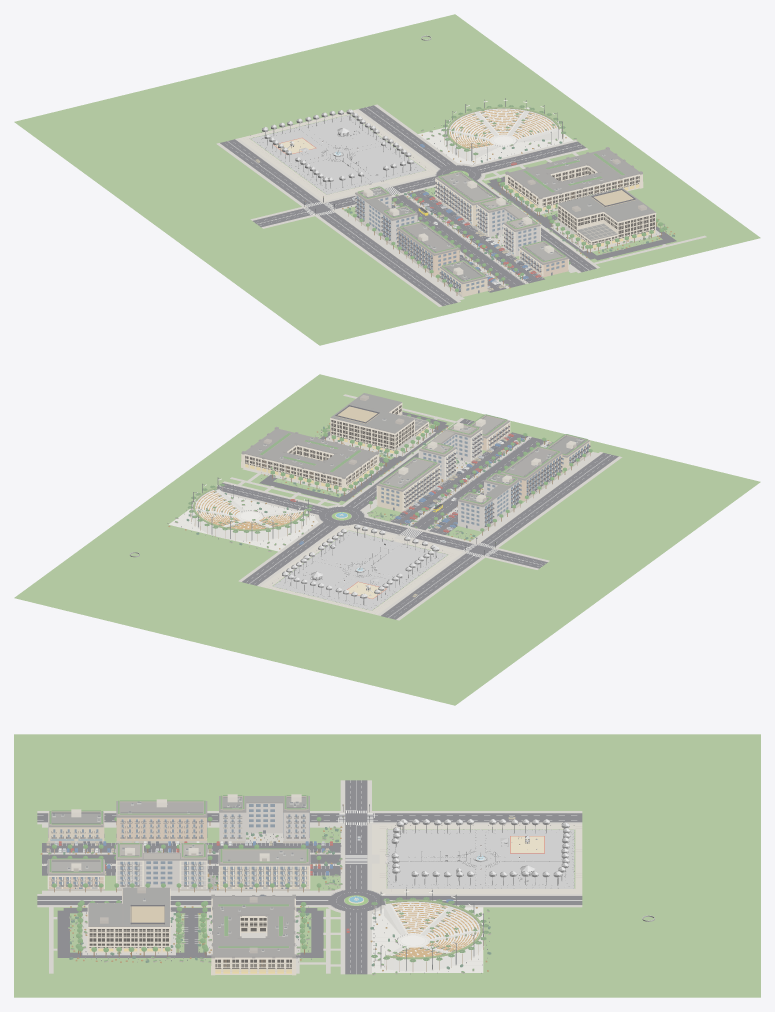
Rendered from map.glb.
The picture shows the model from 3 angles, top to bottom: view 1: azimuth 30°, elevation 25°; view 2: azimuth 150°, elevation 25°; view 3: azimuth 270°, elevation 25°; orthographic projection. The views are drawn at different scales.
Visible parts, largest first — view 1: Ground_Base_01, Ground_ParkLawn_01, Road_Main_01, Road_Straight_04, Building_CourtyardRing_08, Road_SouthGrid_01, Building_Amphitheatre_10, Building_East_09, Road_CentralStreet_01, Ground_AmphitheatrePlaza_01, Road_CentralStreet_04, Ground_Footpath_03 (+21 smaller); view 2: Ground_Base_01, Ground_ParkLawn_01, Road_Main_01, Road_Straight_04, Building_CourtyardRing_08, Road_SouthGrid_01, Ground_AmphitheatrePlaza_01, Road_CentralStreet_04, Road_CentralStreet_01, Road_EastService_04, Ground_Footpath_03, Building_East_09 (+25 smaller); view 3: Ground_Base_01, Ground_ParkLawn_01, Road_Main_01, Building_CourtyardRing_08, Road_Straight_04, Road_EastService_04, Building_B_03, Ground_Footpath_03, Road_CentralStreet_04, Ground_AmphitheatrePlaza_01, Road_SouthGrid_01, Building_Amphitheatre_10 (+48 smaller).
Boxes of the visible parts, <box> form: Ground_Base_01: <box>14,14,760,345</box>; Ground_ParkLawn_01: <box>251,114,425,194</box>; Road_Main_01: <box>220,105,585,227</box>; Road_Straight_04: <box>216,104,599,306</box>; Building_CourtyardRing_08: <box>505,147,642,199</box>; Road_SouthGrid_01: <box>319,181,596,305</box>; Building_Amphitheatre_10: <box>451,110,555,146</box>; Building_East_09: <box>559,188,654,239</box>; Road_CentralStreet_01: <box>391,194,525,287</box>; Ground_AmphitheatrePlaza_01: <box>418,107,573,164</box>; Road_CentralStreet_04: <box>391,190,544,292</box>; Ground_Footpath_03: <box>242,112,434,198</box>; Ground_Base_01: <box>14,374,760,705</box>; Ground_ParkLawn_01: <box>273,530,447,610</box>; Road_Main_01: <box>217,483,547,619</box>; Road_Straight_04: <box>222,418,622,620</box>; Building_CourtyardRing_08: <box>241,426,379,478</box>; Road_SouthGrid_01: <box>345,419,618,546</box>; Ground_AmphitheatrePlaza_01: <box>169,494,318,551</box>; Road_CentralStreet_04: <box>390,432,552,534</box>; Road_CentralStreet_01: <box>410,437,546,530</box>; Road_EastService_04: <box>259,412,448,502</box>; Ground_Footpath_03: <box>263,526,456,614</box>; Building_East_09: <box>332,393,426,432</box>; Ground_Base_01: <box>14,734,760,997</box>; Ground_ParkLawn_01: <box>387,829,574,888</box>; Road_Main_01: <box>345,780,582,974</box>; Building_CourtyardRing_08: <box>211,894,295,958</box>; Road_Straight_04: <box>37,780,582,974</box>; Road_EastService_04: <box>57,907,323,957</box>; Building_B_03: <box>219,803,309,840</box>; Ground_Footpath_03: <box>379,826,582,891</box>; Road_CentralStreet_04: <box>42,843,340,875</box>; Ground_AmphitheatrePlaza_01: <box>372,907,483,972</box>; Road_SouthGrid_01: <box>37,813,340,904</box>; Building_Amphitheatre_10: <box>391,903,478,957</box>.
Size of what is drawn, in the model's own units: 400 by 26.3 by 480.
